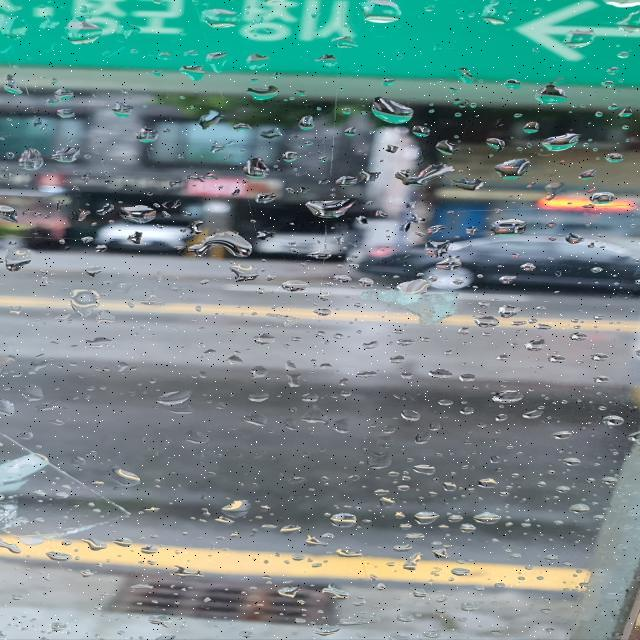raindrop: (181, 230, 260, 260), (365, 90, 429, 124), (344, 0, 414, 31), (94, 462, 160, 490), (392, 162, 454, 190), (520, 81, 572, 112), (148, 386, 204, 414), (302, 196, 362, 222), (53, 16, 101, 48), (530, 129, 586, 156), (157, 59, 212, 86), (470, 1, 520, 29), (330, 169, 390, 192), (490, 156, 537, 185), (64, 288, 104, 320), (572, 187, 622, 212), (234, 156, 278, 184), (414, 236, 461, 262), (550, 27, 600, 51), (8, 145, 48, 175), (482, 216, 530, 240), (194, 7, 239, 32), (0, 244, 37, 274), (236, 82, 281, 106), (428, 252, 482, 272), (114, 203, 160, 226), (388, 274, 432, 298), (359, 448, 401, 472), (222, 264, 267, 286), (68, 336, 117, 356), (319, 508, 366, 528), (105, 96, 144, 120), (535, 178, 571, 204), (15, 378, 51, 404), (216, 496, 253, 521), (308, 50, 354, 70), (322, 414, 361, 437), (194, 106, 228, 132), (277, 274, 321, 294), (418, 138, 464, 157), (164, 566, 212, 584), (130, 122, 164, 147), (238, 408, 278, 429), (478, 135, 516, 157), (182, 424, 220, 446), (236, 329, 282, 347), (60, 205, 94, 229), (50, 142, 87, 164), (392, 404, 432, 424), (496, 388, 534, 409), (128, 292, 165, 313), (294, 404, 329, 426), (448, 174, 486, 194), (42, 546, 80, 566), (590, 0, 640, 15), (588, 412, 632, 429), (0, 72, 28, 98), (610, 10, 640, 34), (272, 582, 308, 602), (405, 428, 442, 447), (419, 365, 454, 385), (324, 33, 365, 50), (498, 75, 531, 96), (492, 301, 525, 322), (328, 546, 371, 562), (246, 189, 282, 208), (302, 248, 340, 266), (346, 335, 386, 352), (448, 64, 476, 88), (244, 362, 276, 383), (306, 622, 348, 638), (291, 110, 318, 134), (556, 230, 592, 248), (560, 326, 596, 344), (322, 584, 358, 602), (32, 401, 75, 416), (510, 120, 542, 140), (395, 550, 423, 572), (466, 314, 500, 332), (237, 389, 273, 406), (298, 532, 332, 550), (206, 48, 227, 77), (145, 611, 185, 626), (516, 406, 549, 424), (38, 618, 71, 636), (520, 336, 554, 353), (513, 260, 549, 276), (407, 462, 443, 478), (131, 542, 167, 558), (610, 104, 640, 123), (285, 370, 313, 390), (451, 370, 482, 388), (543, 428, 574, 446), (246, 51, 270, 74), (471, 474, 505, 490), (330, 124, 360, 142), (549, 454, 585, 469), (411, 509, 441, 527), (442, 566, 472, 584), (471, 508, 504, 524), (268, 149, 305, 163), (562, 500, 594, 516), (347, 612, 382, 626), (600, 148, 630, 164), (540, 351, 572, 366), (449, 403, 479, 419), (452, 520, 482, 536), (0, 203, 21, 225), (421, 623, 448, 640), (272, 522, 304, 536), (48, 106, 82, 119), (396, 530, 426, 544), (258, 122, 284, 138), (407, 122, 433, 138), (114, 533, 140, 549), (428, 545, 453, 561), (0, 397, 19, 418), (406, 585, 432, 600), (48, 86, 72, 102), (435, 480, 459, 496), (586, 353, 614, 366), (388, 541, 416, 554), (534, 553, 561, 566), (394, 336, 420, 349), (430, 396, 454, 409), (593, 474, 619, 486), (353, 370, 378, 382), (461, 600, 488, 611), (426, 418, 446, 432), (492, 412, 515, 424)
